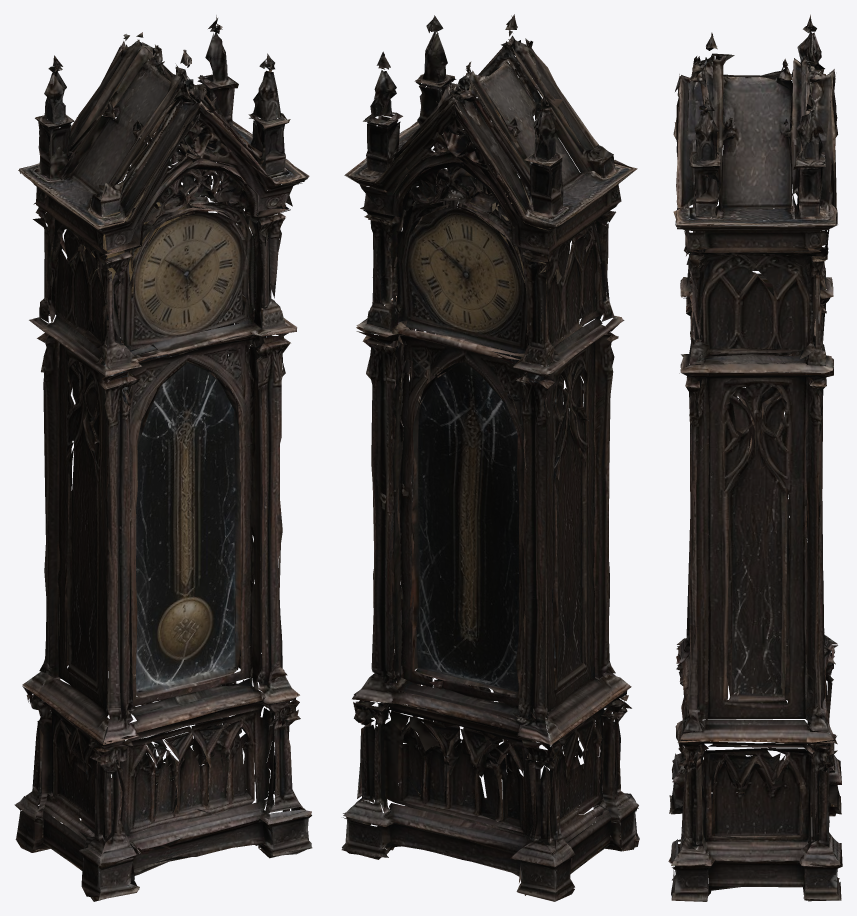
The model's file is Clock.fbx.
3 renders of one model, left to right at view 1: azimuth 30°, elevation 25°; view 2: azimuth 150°, elevation 25°; view 3: azimuth 270°, elevation 25°, orthographic.
Visible parts, largest first — view 1: Clock; view 2: Clock; view 3: Clock.
Boxes of the visible parts, x1,y1,x2,y2 form: Clock: (14,15,312,901); Clock: (341,14,639,901); Clock: (668,14,842,901).
Size of the model in its own units: 28.04 by 99.51 by 19.15.
Materials: 1 (1 with a texture image).
